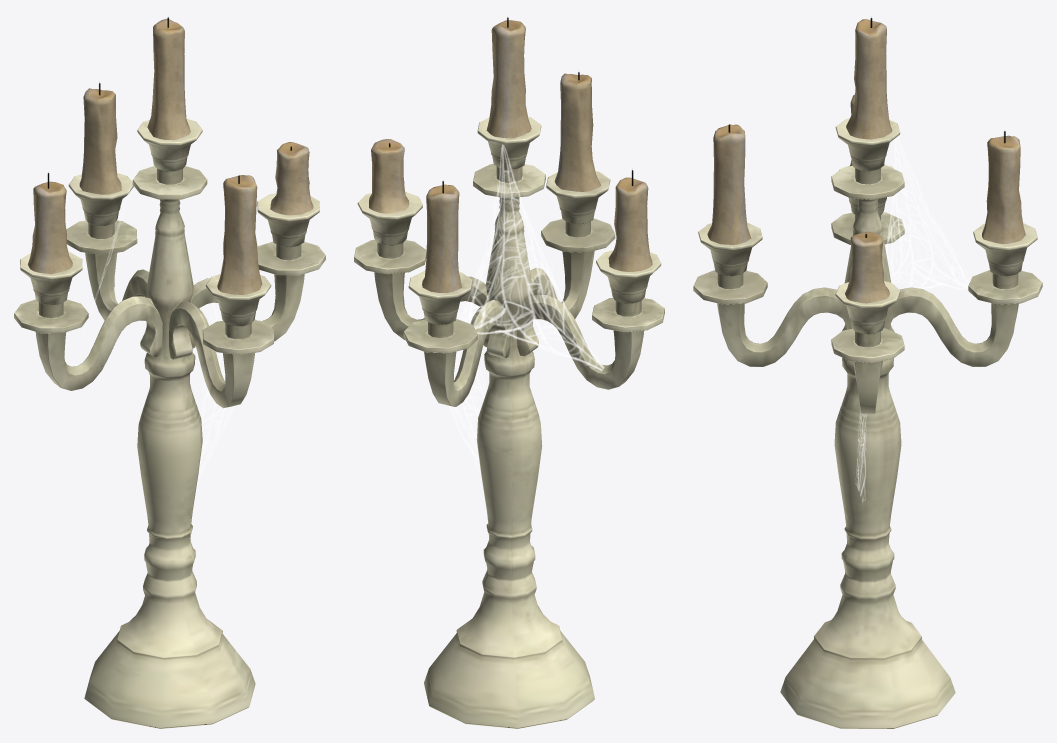
File: obj_old_candelabra.glb
3 views of the same model, side by side, from view 1: azimuth 30°, elevation 25°; view 2: azimuth 150°, elevation 25°; view 3: azimuth 270°, elevation 25° (orthographic).
Parts seen in each view (by area): view 1: Object_2; view 2: Object_2; view 3: Object_2.
Part boxes in pixels (<box>): Object_2: <box>14,17,325,728</box>; Object_2: <box>354,17,664,728</box>; Object_2: <box>693,18,1042,728</box>.
Bounding box in the file's own units: 0.2567 × 0.55 × 0.2567.
5 materials, 5 textured.
